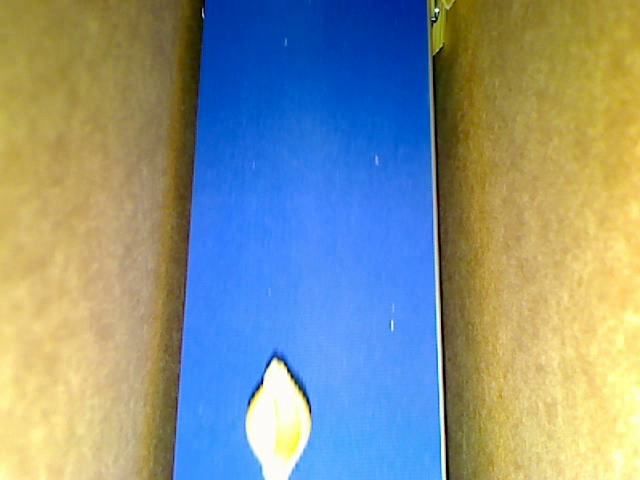penne: (430, 1, 447, 57), (441, 1, 458, 14)
shell: (244, 355, 313, 479)
